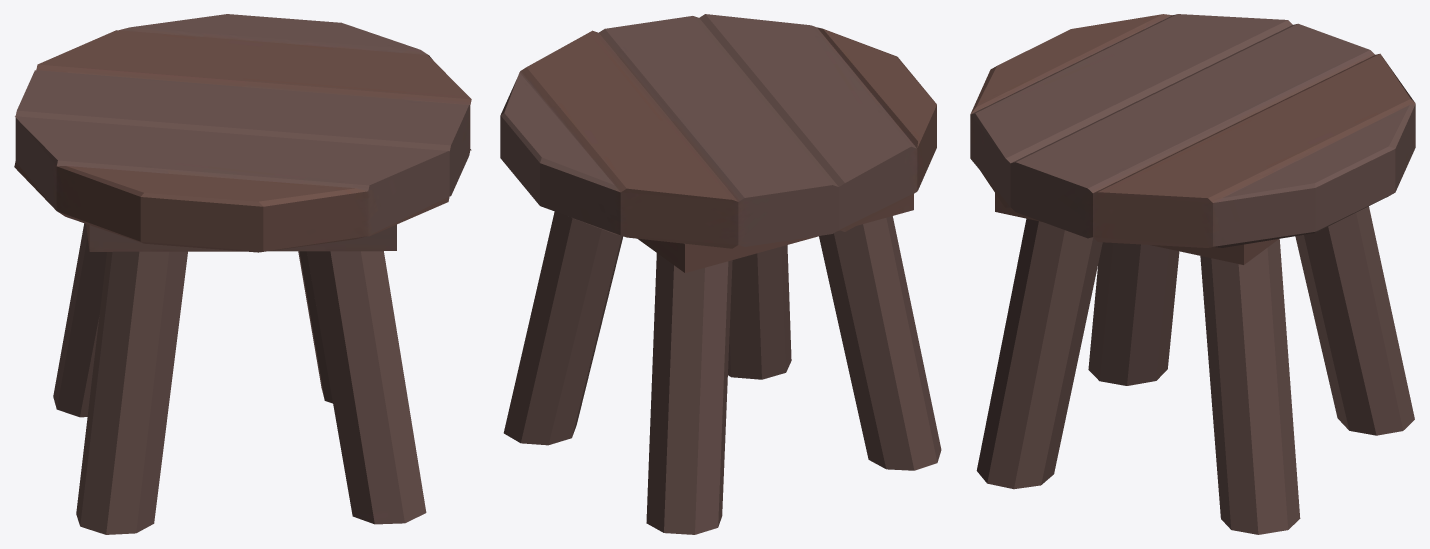
3 views of the same model, side by side, from view 1: azimuth 30°, elevation 25°; view 2: azimuth 150°, elevation 25°; view 3: azimuth 270°, elevation 25° (orthographic). The views are drawn at different scales.
Visible parts, largest first — view 1: stool.003; view 2: stool.003; view 3: stool.003.
Part boxes in pixels (x1,y1,x2,y2): stool.003: (14,14,471,534); stool.003: (500,14,941,534); stool.003: (970,14,1415,534).
Size of the model in its own units: 2 by 1.69 by 2.
1 material, 1 textured.
